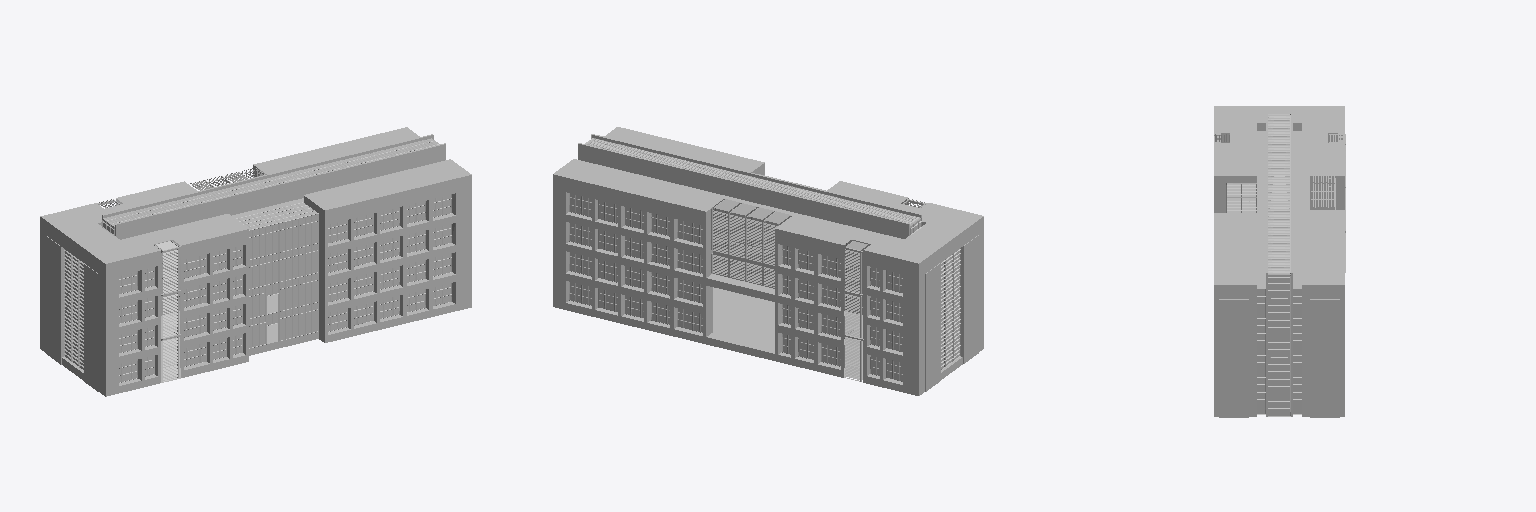
The model's file is BuildB_simplified.obj.
3 views of the same model, side by side, from view 1: azimuth 30°, elevation 25°; view 2: azimuth 150°, elevation 25°; view 3: azimuth 270°, elevation 25° (orthographic).
Parts seen in each view (by area): view 1: Object.1; view 2: Object.1; view 3: Object.1.
Boxes of the visible parts, x1=… form: Object.1: x1=40, y1=127, x2=471, y2=396; Object.1: x1=553, y1=127, x2=983, y2=395; Object.1: x1=1214, y1=106, x2=1345, y2=417.
Bounding box in the file's own units: 130 × 49.12 × 40.63.